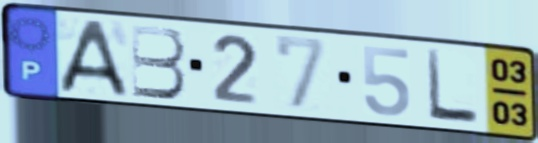2: (209, 32, 261, 107)
5: (360, 43, 413, 119)
7: (271, 33, 334, 114)
A: (55, 18, 132, 98)
B: (127, 22, 190, 101)
L: (423, 47, 482, 127)
